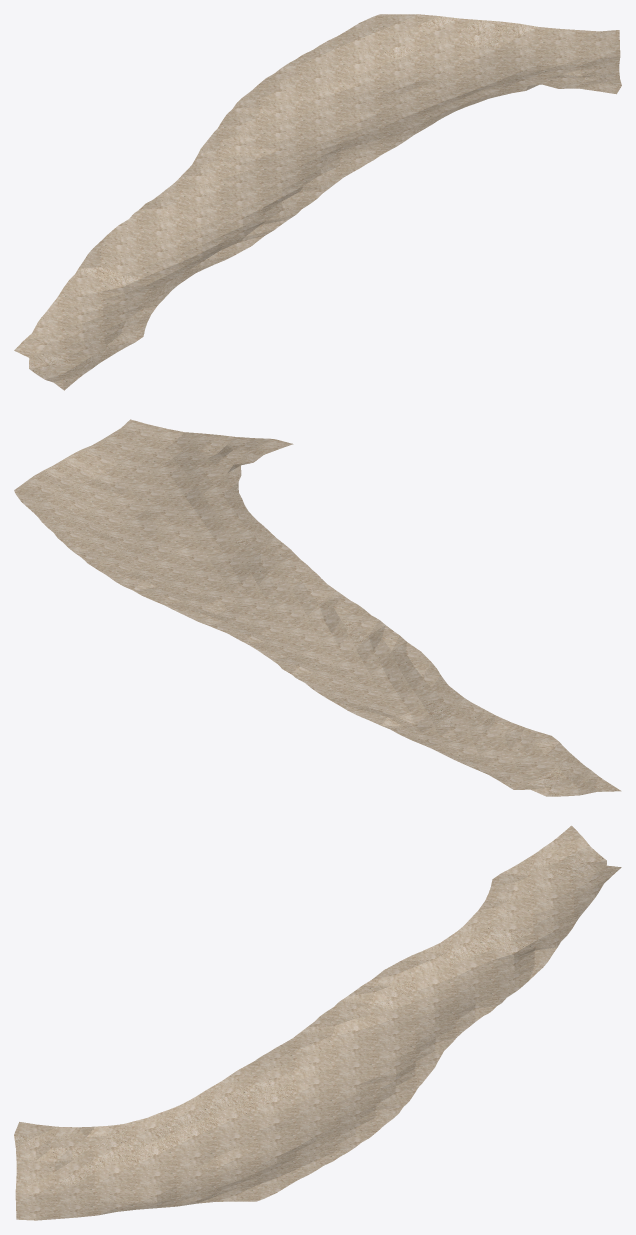
Rendered from c_carisle_mid_seabed_00.fbx.
3 renders of one model, top to bottom at view 1: azimuth 90°, elevation 25°; view 2: azimuth 150°, elevation 25°; view 3: azimuth 270°, elevation 25°, orthographic.
Parts seen in each view (by area): view 1: c_carisle_mid_seabed_00; view 2: c_carisle_mid_seabed_00; view 3: c_carisle_mid_seabed_00.
Part boxes in pixels (x1,y1,x2,y2): c_carisle_mid_seabed_00: (14, 14, 621, 390); c_carisle_mid_seabed_00: (14, 419, 621, 796); c_carisle_mid_seabed_00: (14, 825, 621, 1220).
Size of the model in its own units: 108 by 73.55 by 2.86.
